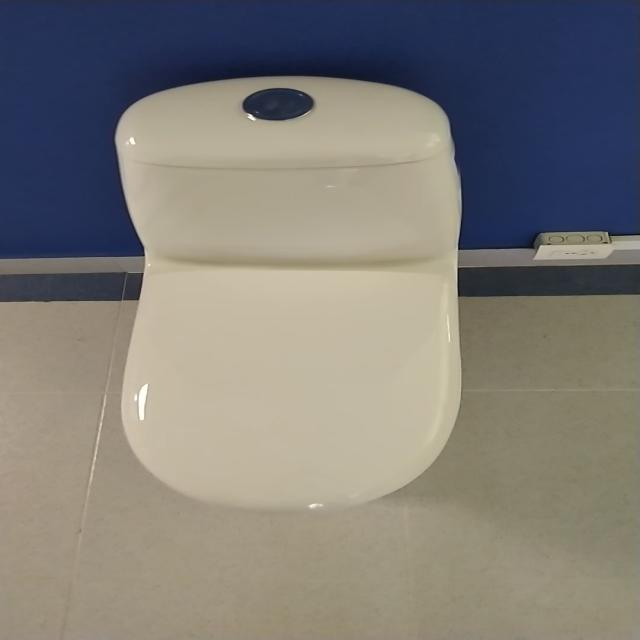toilet: (113, 75, 462, 513)
